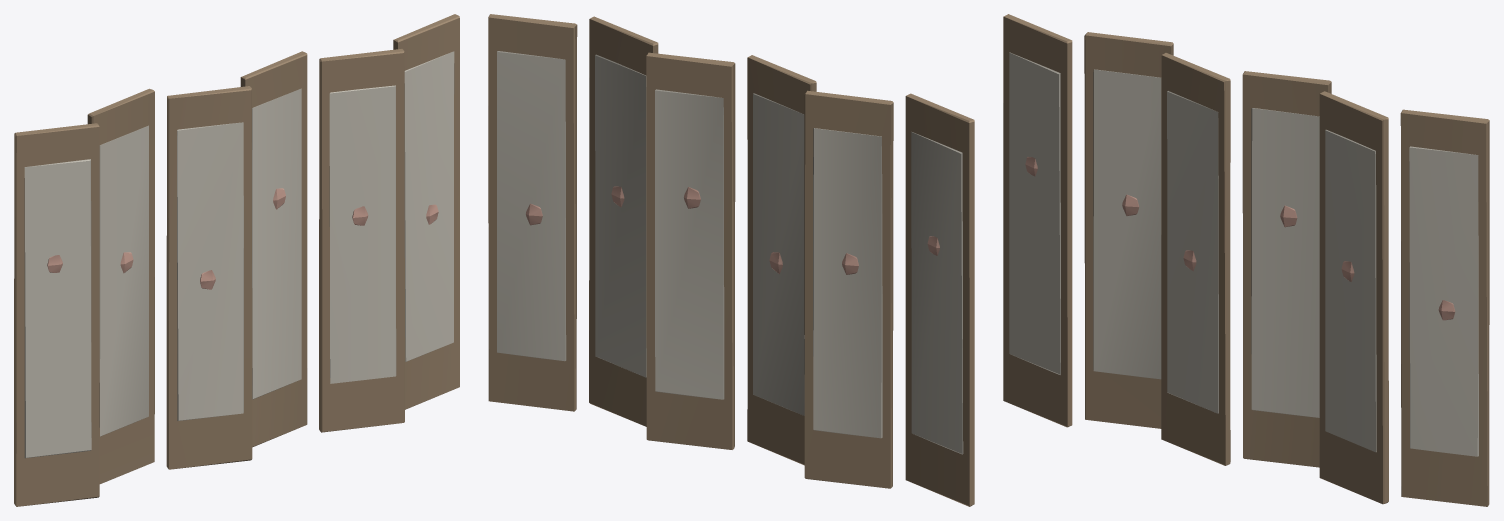
The model's file is furn_folding_screen__walnut_low.glb.
3 renders of one model, left to right at view 1: azimuth 30°, elevation 25°; view 2: azimuth 150°, elevation 25°; view 3: azimuth 330°, elevation 25°, orthographic. The views are drawn at different scales.
Bounding box in the file's own units: 1.79 × 1.4 × 0.1803.
